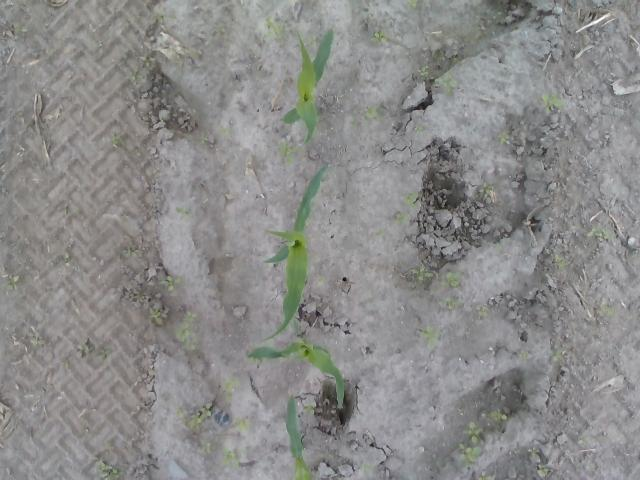Maize: (252, 165, 335, 349), (278, 25, 336, 145), (247, 342, 346, 407), (284, 391, 312, 480)
Weeds: (64, 336, 113, 368), (432, 46, 463, 96), (458, 420, 484, 470), (432, 271, 464, 311), (175, 402, 212, 434), (415, 321, 447, 352), (175, 310, 198, 352), (392, 191, 418, 225), (352, 104, 384, 128), (95, 459, 128, 480), (128, 56, 155, 81), (264, 14, 289, 40), (276, 139, 299, 167), (160, 274, 184, 296), (542, 92, 566, 114), (222, 375, 242, 401), (490, 406, 508, 432), (222, 446, 240, 470), (411, 263, 434, 281), (368, 30, 389, 48), (157, 6, 177, 24), (1, 274, 20, 292), (587, 227, 610, 240), (232, 415, 249, 432), (198, 438, 216, 454), (148, 306, 164, 324), (496, 128, 511, 146), (367, 227, 385, 242), (416, 63, 430, 81), (462, 31, 480, 44), (600, 303, 616, 317), (536, 464, 552, 478), (302, 400, 316, 416), (13, 22, 32, 33), (495, 1, 508, 16), (175, 205, 191, 217), (478, 182, 494, 194), (577, 433, 590, 447), (190, 136, 208, 146), (316, 274, 328, 288), (358, 462, 374, 472), (476, 304, 488, 317), (213, 22, 226, 34), (478, 471, 494, 480), (555, 255, 566, 268), (548, 351, 562, 361), (413, 124, 424, 136), (112, 128, 120, 144), (528, 446, 542, 455), (30, 338, 48, 345), (516, 350, 528, 360), (404, 0, 417, 9), (133, 294, 145, 303), (63, 253, 71, 266), (495, 242, 503, 252), (220, 126, 228, 134), (249, 356, 255, 362)
